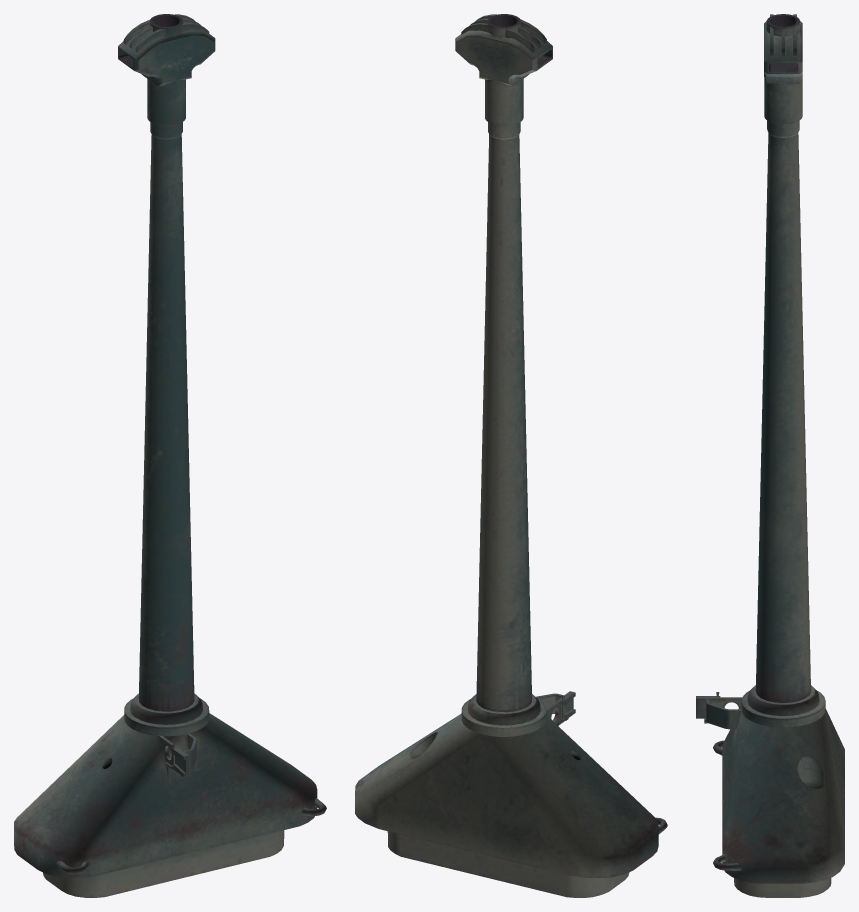
File: Gun_04.glb
3 views of the same model, side by side, from view 1: azimuth 30°, elevation 25°; view 2: azimuth 150°, elevation 25°; view 3: azimuth 270°, elevation 25° (orthographic).
Visible parts, largest first — view 1: set_0_group_0; view 2: set_0_group_0; view 3: set_0_group_0.
Part boxes in pixels (x1,y1,x2,y2): set_0_group_0: (14, 14, 326, 897); set_0_group_0: (355, 14, 667, 897); set_0_group_0: (696, 14, 844, 897).
Size of the model in its own units: 1.38 by 4.03 by 0.6581.
1 material, 1 textured.
